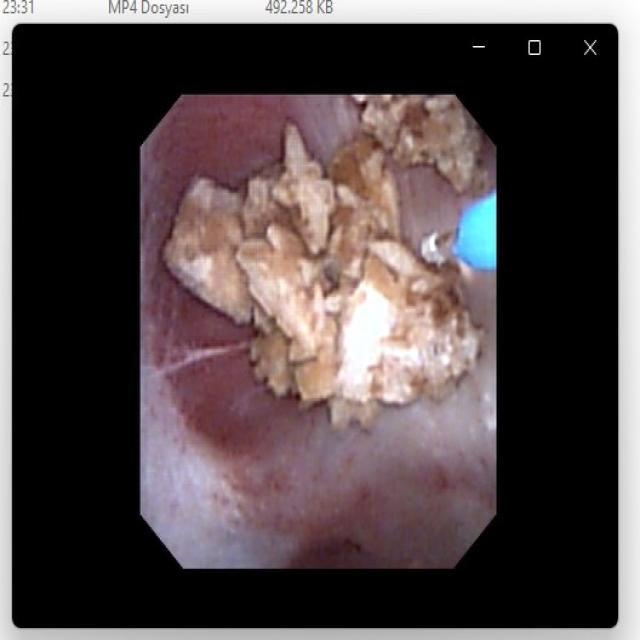fiber: (458, 202, 492, 264)
stone: (170, 128, 477, 422), (362, 99, 478, 185)
